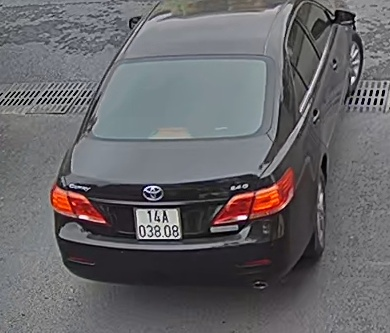vehicle plate: (131, 205, 180, 242)
